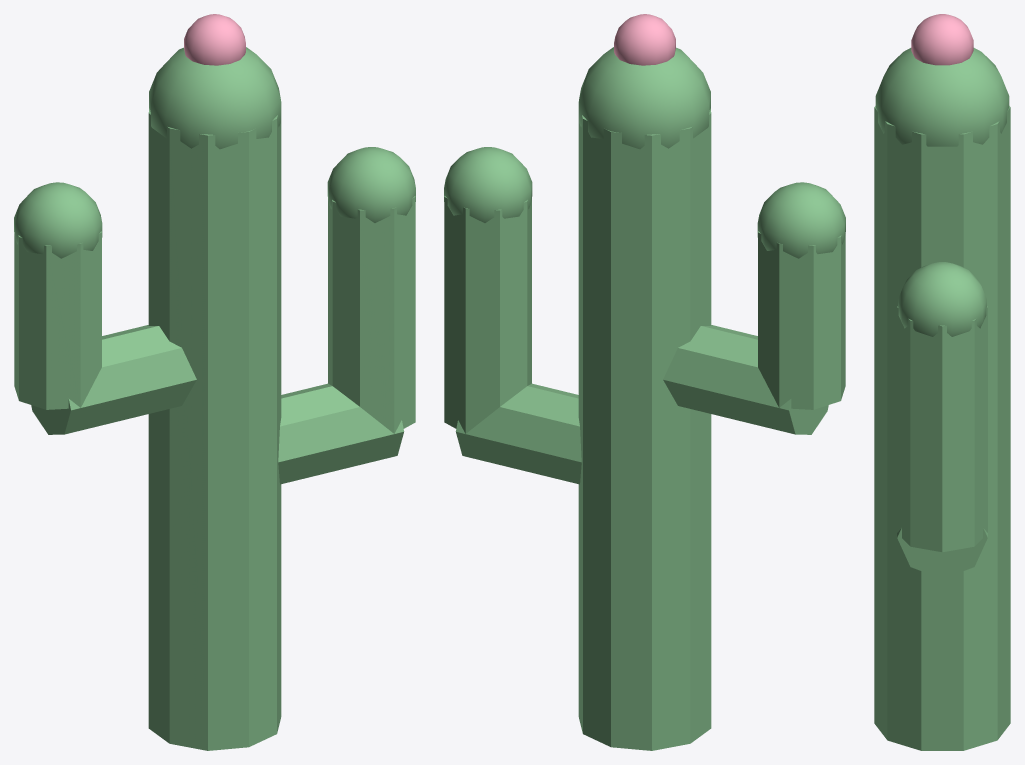
The model's file is desert__cactus_tall.fbx.
The picture shows the model from 3 angles, left to right: view 1: azimuth 30°, elevation 25°; view 2: azimuth 150°, elevation 25°; view 3: azimuth 270°, elevation 25°; orthographic projection.
Visible parts, largest first — view 1: desert__cactus_tall; view 2: desert__cactus_tall; view 3: desert__cactus_tall.
Part boxes in pixels (x1=…): desert__cactus_tall: x1=14, y1=14, x2=415, y2=750; desert__cactus_tall: x1=444, y1=14, x2=845, y2=750; desert__cactus_tall: x1=874, y1=14, x2=1010, y2=750.
Size of the model in its own units: 2 by 3.44 by 0.6.
